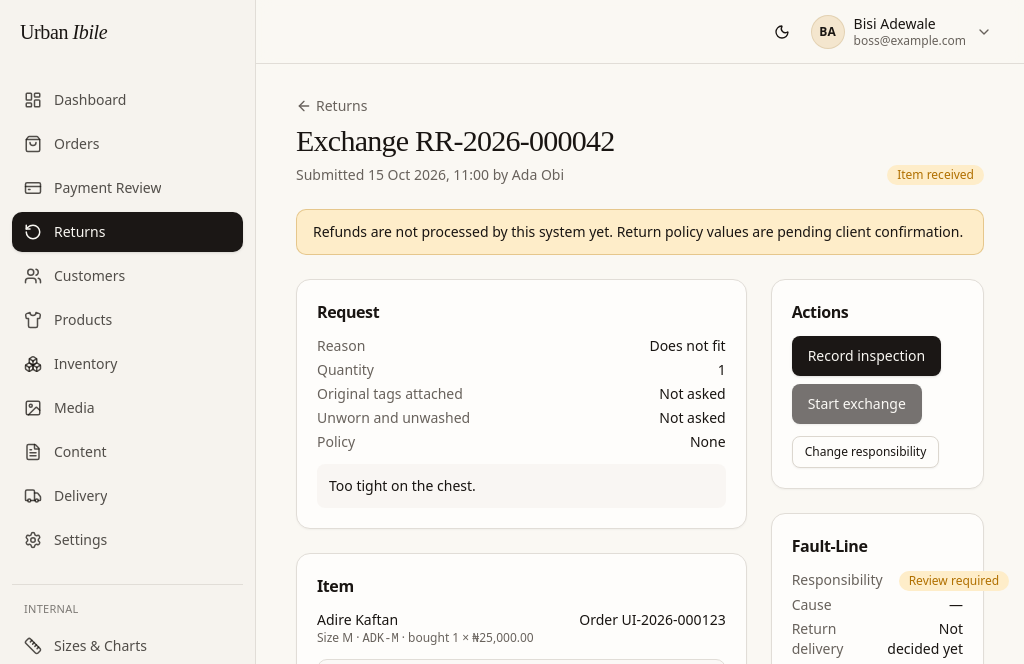
return review › records the inspection only at RETURN_RECEIVED and reports the restock
This screenshot has width=1024, height=664.
Check: the button "Start exchange" is disabled, box left=792, top=384, right=922, bottom=424
Click the button "Record inspection".
click(866, 356)  # box left=792, top=336, right=941, bottom=376
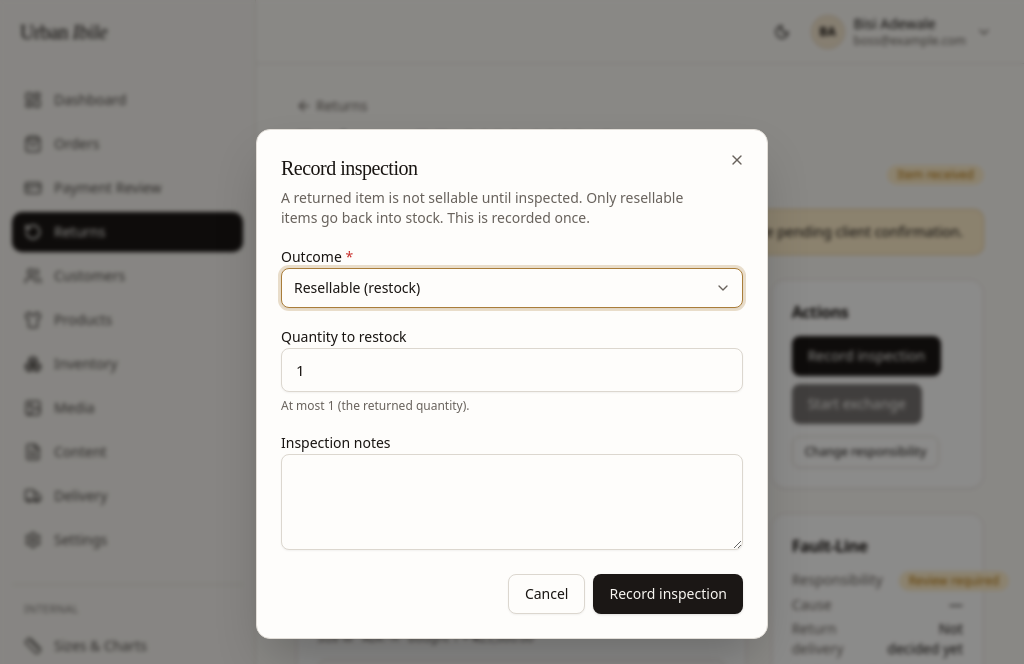
Click the button "Record inspection".
click(668, 594)  # box left=594, top=574, right=743, bottom=614
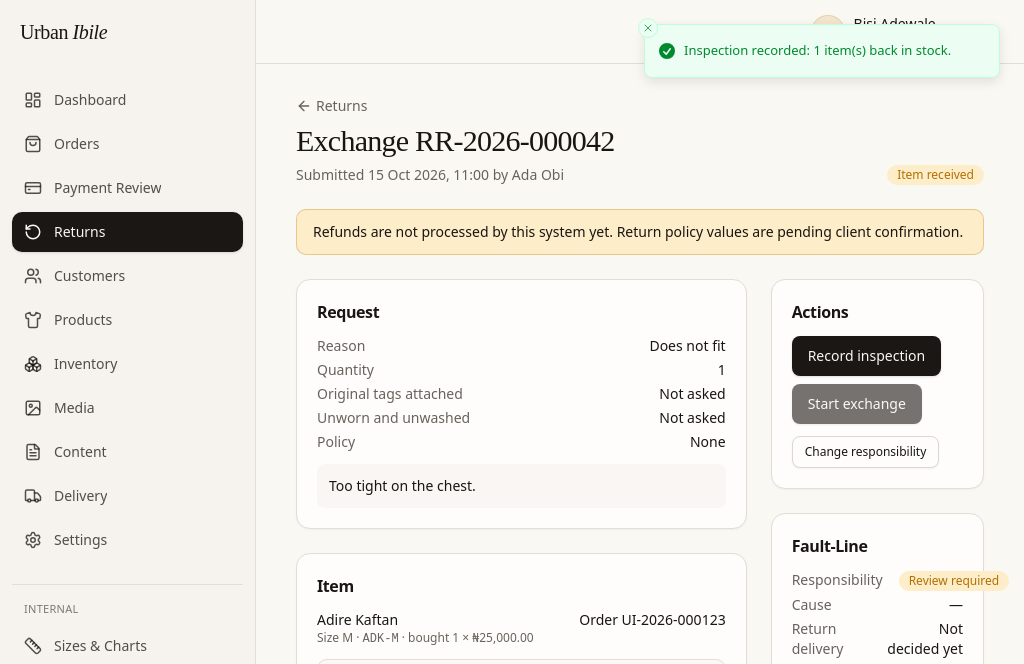
Check: the text "Inspection recorded: 1 item(s) back in stock." is shown, box left=684, top=41, right=951, bottom=60
